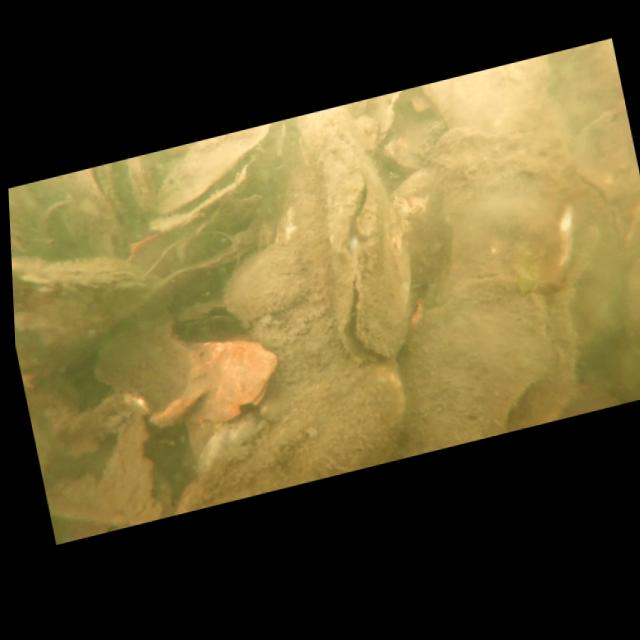Oyster-Closed: (411, 94, 640, 400), (155, 356, 418, 516), (91, 286, 289, 455), (10, 221, 162, 357)
Oyster-Indeterminate: (374, 257, 568, 460)
Oyster-Open: (296, 116, 430, 378), (133, 120, 295, 240), (166, 186, 282, 278), (168, 289, 241, 340)
